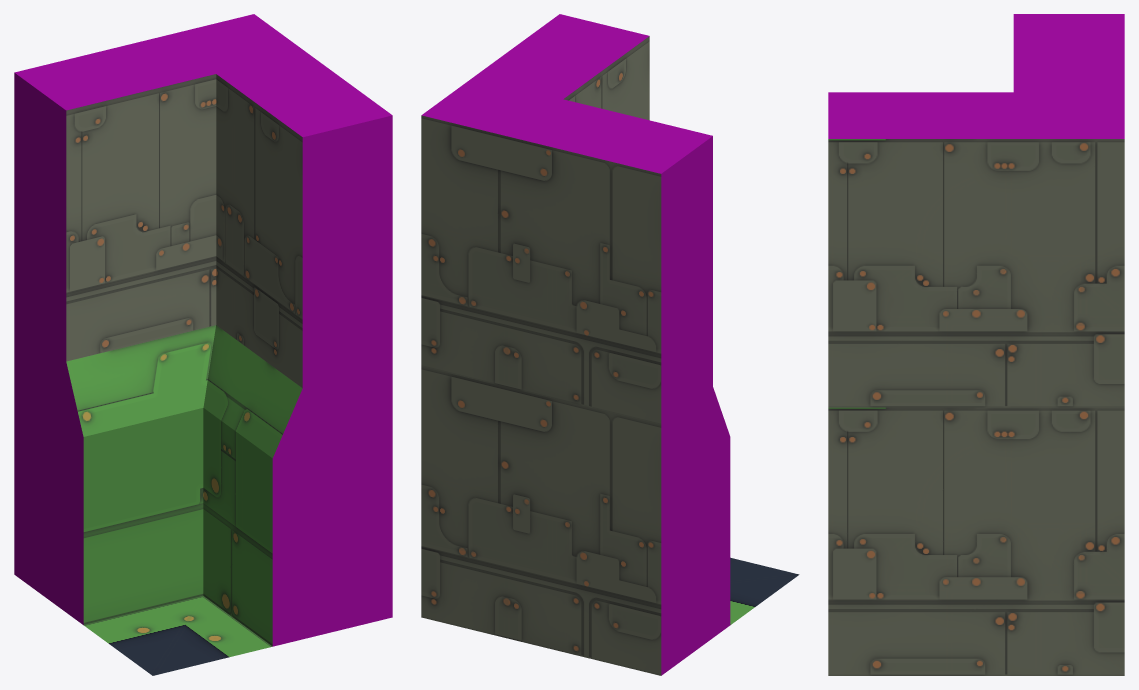
The model's file is Wall_Corner90_Outside_Top.fbx.
3 renders of one model, left to right at view 1: azimuth 30°, elevation 25°; view 2: azimuth 150°, elevation 25°; view 3: azimuth 270°, elevation 25°, orthographic. The views are drawn at different scales.
Visible parts, largest first — view 1: Wall_Corner90_Outside_Top, Wall_Corner90_Outside, Floor_Edge_Corner90_Outside; view 2: Wall_Corner90_Outside_Top, Wall_Corner90_Outside, Floor_Edge_Corner90_Outside; view 3: Wall_Corner90_Outside_Top, Wall_Corner90_Outside.
Part boxes in pixels (x1=…): Wall_Corner90_Outside_Top: x1=14, y1=14, x2=392, y2=388; Wall_Corner90_Outside: x1=14, y1=324, x2=392, y2=646; Floor_Edge_Corner90_Outside: x1=84, y1=596, x2=272, y2=675; Wall_Corner90_Outside_Top: x1=421, y1=14, x2=712, y2=424; Wall_Corner90_Outside: x1=421, y1=366, x2=730, y2=675; Floor_Edge_Corner90_Outside: x1=730, y1=557, x2=799, y2=624; Wall_Corner90_Outside_Top: x1=828, y1=14, x2=1124, y2=407; Wall_Corner90_Outside: x1=828, y1=407, x2=1124, y2=675.
Size of the model in its own units: 100 by 200 by 100.
